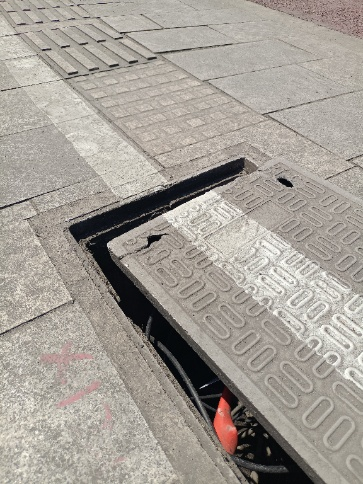uncovered: (62, 152, 360, 484)
